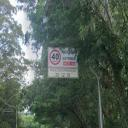speed_limit_40: (49, 49, 61, 65)
